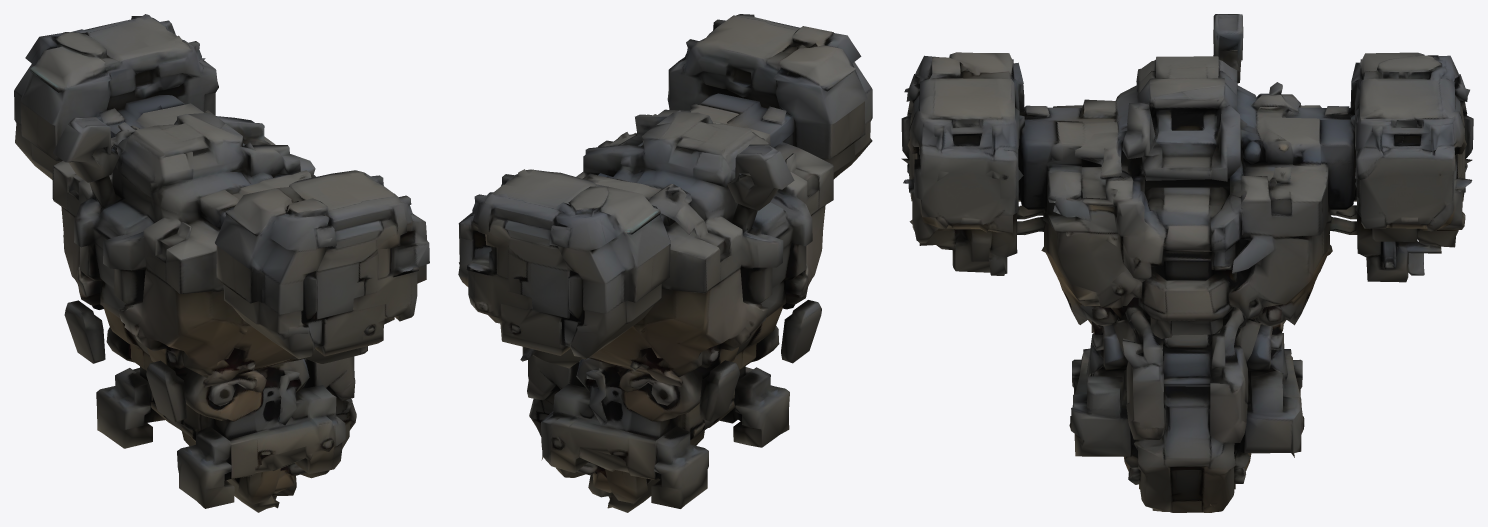
File: core_hound_prime.glb
3 views of the same model, side by side, from view 1: azimuth 30°, elevation 25°; view 2: azimuth 150°, elevation 25°; view 3: azimuth 270°, elevation 25° (orthographic). The views are drawn at different scales.
Visible parts, largest first — view 1: tripo_node_75e07406-b324-42cc-ab7e-3c94c8d6cf44; view 2: tripo_node_75e07406-b324-42cc-ab7e-3c94c8d6cf44; view 3: tripo_node_75e07406-b324-42cc-ab7e-3c94c8d6cf44.
Boxes of the visible parts, box(x1,y1,x2,y2) form: tripo_node_75e07406-b324-42cc-ab7e-3c94c8d6cf44: box(14, 14, 429, 512); tripo_node_75e07406-b324-42cc-ab7e-3c94c8d6cf44: box(458, 14, 872, 512); tripo_node_75e07406-b324-42cc-ab7e-3c94c8d6cf44: box(901, 14, 1473, 512).
Size of the model in its own units: 0.5447 by 0.8043 by 1.
Materials: 1 (1 with a texture image).
